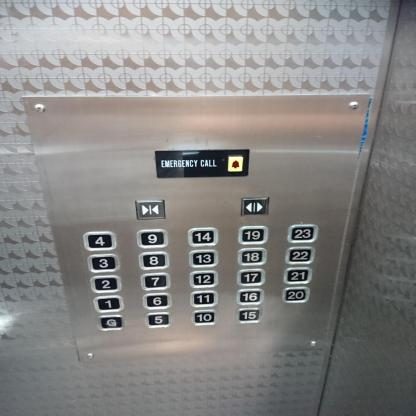1: (93, 295, 123, 313)
10: (191, 309, 216, 325)
11: (190, 290, 218, 307)
12: (189, 270, 218, 288)
13: (188, 249, 218, 268)
14: (188, 227, 218, 246)
15: (236, 308, 262, 324)
16: (236, 288, 264, 305)
17: (236, 268, 266, 286)
18: (237, 248, 266, 266)
19: (238, 226, 268, 244)
2: (90, 275, 121, 293)
20: (282, 286, 310, 303)
21: (284, 266, 312, 284)
22: (285, 247, 314, 264)
23: (287, 224, 318, 243)
3: (86, 253, 120, 273)
4: (82, 231, 116, 250)
5: (144, 312, 173, 328)
6: (142, 292, 172, 310)
7: (140, 272, 170, 290)
8: (138, 251, 169, 270)
9: (136, 229, 168, 248)
G: (96, 315, 126, 331)
alarm: (226, 154, 244, 172)
close: (134, 198, 166, 221)
open: (239, 195, 272, 217)
